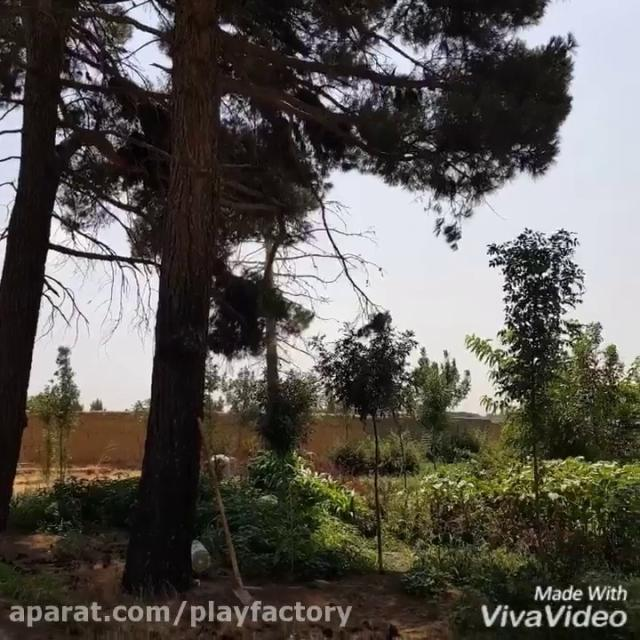drone: (318, 292, 332, 304)
